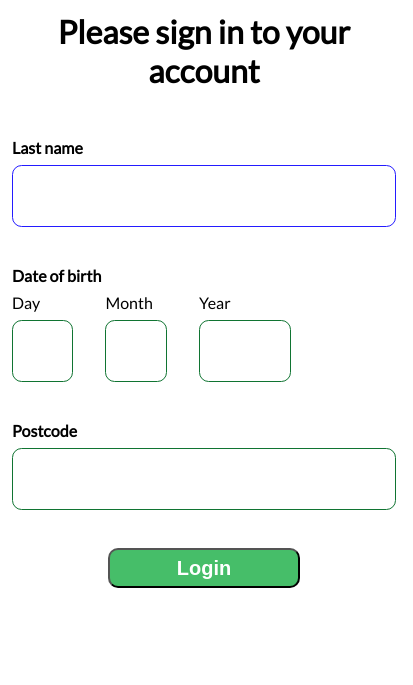
Test: Login Form Validation › should display error when year is breaking maxLength validation rule
Type "12345" into the field labelled "Year" at (245, 351), box 199,320 -> 291,382
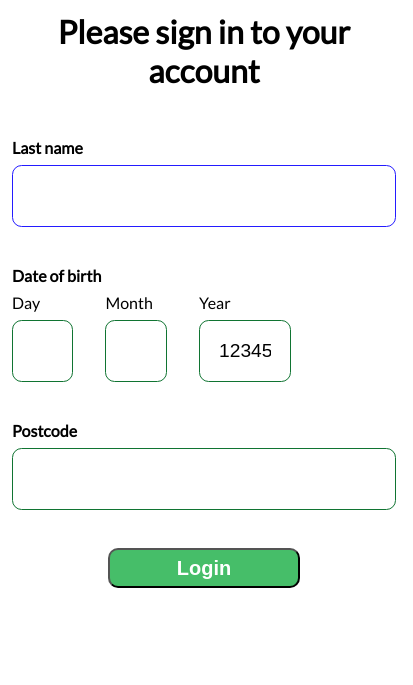
Submit the form from the button, box 108,548 -> 300,588
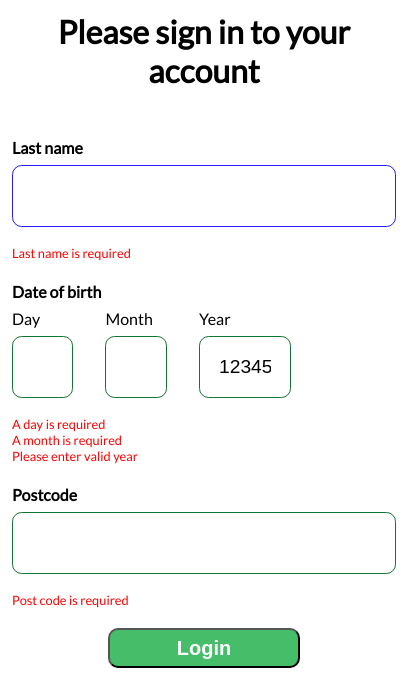
expect the number of messages is 5: met, box 12,245 -> 131,261; 12,416 -> 105,432; 12,432 -> 122,448; 12,448 -> 138,464; 12,592 -> 129,608
expect the text "Please enter valid year" is shown: met, box 12,448 -> 138,464
